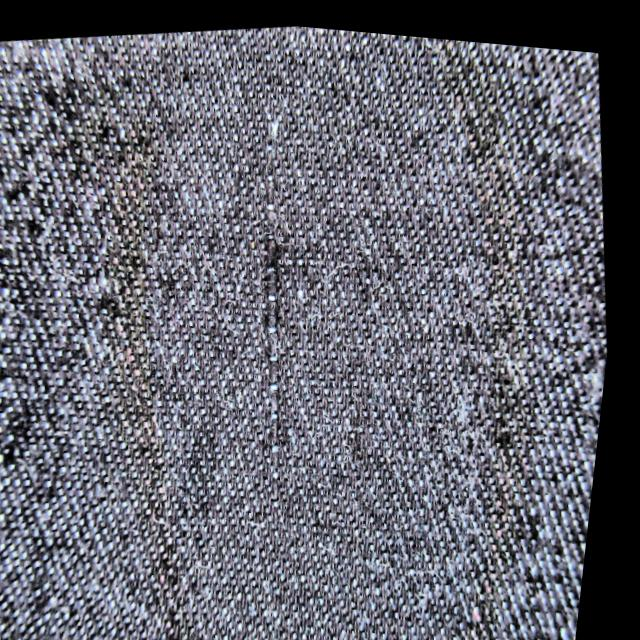Hole: (266, 23, 293, 606)
